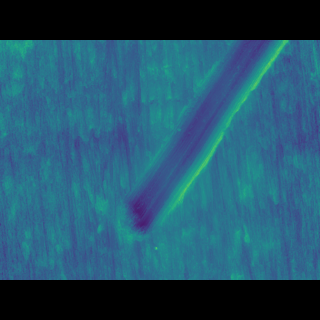Loch: (115, 69, 291, 224)
